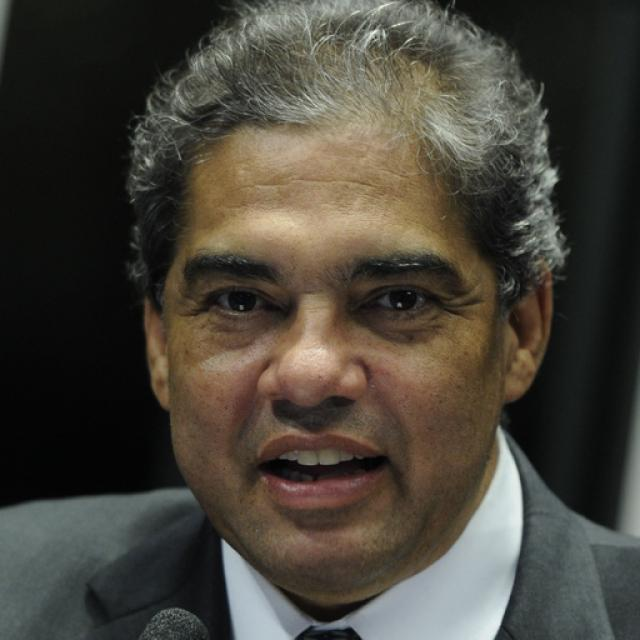disgust: (162, 105, 502, 589)
